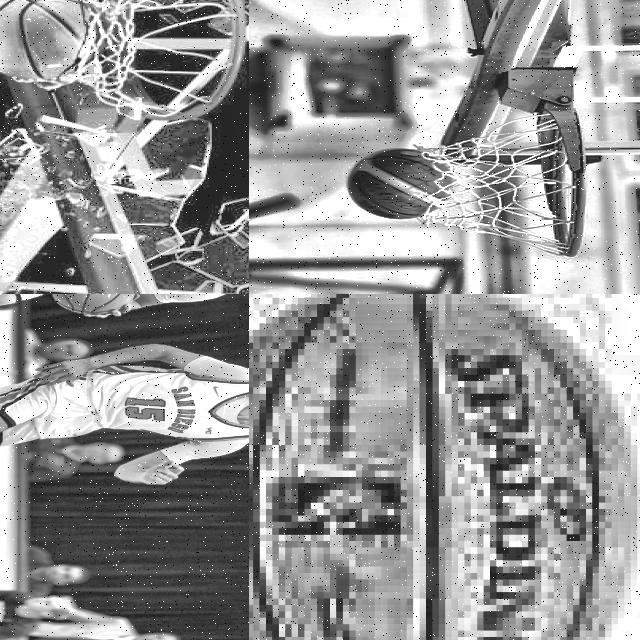Basketball: (249, 294, 636, 640), (347, 150, 447, 219), (53, 294, 136, 314)
